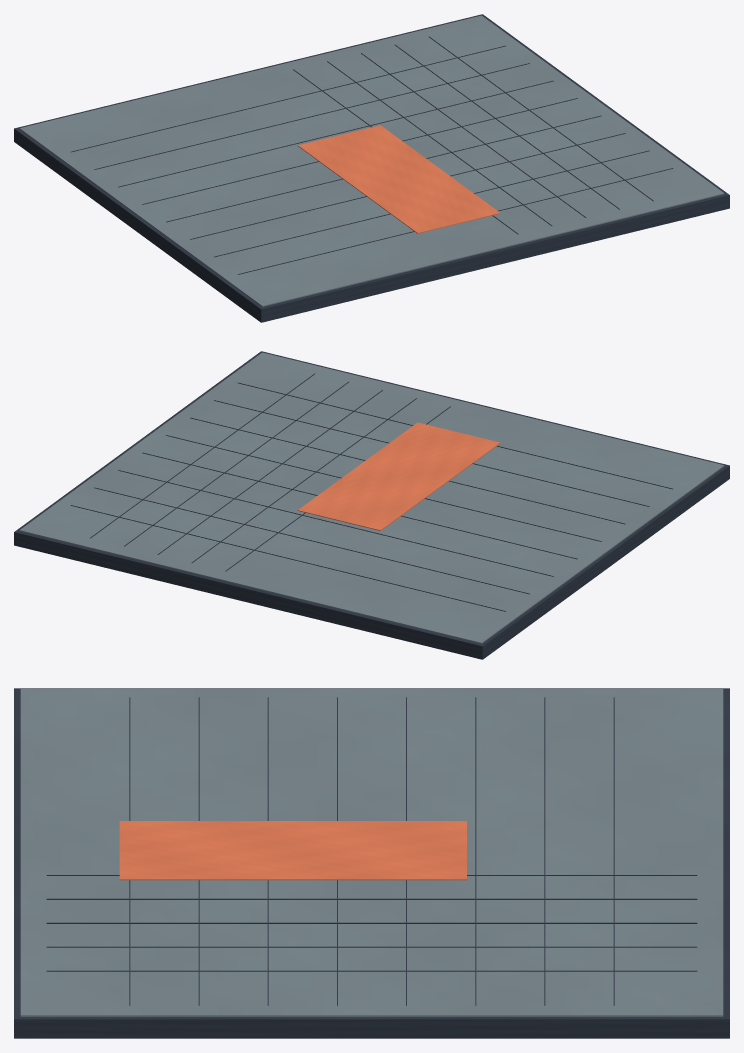
Rendered from atlas100-s025-a07.lod2.glb.
3 views of the same model, one above another, from view 1: azimuth 30°, elevation 25°; view 2: azimuth 150°, elevation 25°; view 3: azimuth 270°, elevation 25° (orthographic). The views are drawn at different scales.
Visible parts, largest first — view 1: atlas100-s025-a07:part-001, atlas100-s025-a07:part-000, atlas100-s025-a07:part-021, atlas100-s025-a07:part-015, atlas100-s025-a07:part-013, atlas100-s025-a07:part-014, atlas100-s025-a07:part-017, atlas100-s025-a07:part-016, atlas100-s025-a07:part-018, atlas100-s025-a07:part-019, atlas100-s025-a07:part-020; view 2: atlas100-s025-a07:part-001, atlas100-s025-a07:part-000, atlas100-s025-a07:part-021, atlas100-s025-a07:part-013, atlas100-s025-a07:part-014, atlas100-s025-a07:part-015, atlas100-s025-a07:part-016, atlas100-s025-a07:part-018, atlas100-s025-a07:part-019, atlas100-s025-a07:part-017, atlas100-s025-a07:part-020; view 3: atlas100-s025-a07:part-001, atlas100-s025-a07:part-000, atlas100-s025-a07:part-021, atlas100-s025-a07:part-009, atlas100-s025-a07:part-011, atlas100-s025-a07:part-012, atlas100-s025-a07:part-010, atlas100-s025-a07:part-013, atlas100-s025-a07:part-014, atlas100-s025-a07:part-015.
Part boxes in pixels (x1=…): atlas100-s025-a07:part-001: x1=19, y1=15, x2=724, y2=306; atlas100-s025-a07:part-000: x1=14, y1=14, x2=729, y2=322; atlas100-s025-a07:part-021: x1=297, y1=125, x2=500, y2=233; atlas100-s025-a07:part-015: x1=118, y1=80, x2=553, y2=187; atlas100-s025-a07:part-013: x1=71, y1=45, x2=505, y2=152; atlas100-s025-a07:part-014: x1=94, y1=63, x2=529, y2=169; atlas100-s025-a07:part-017: x1=166, y1=115, x2=601, y2=222; atlas100-s025-a07:part-016: x1=142, y1=98, x2=577, y2=204; atlas100-s025-a07:part-018: x1=190, y1=133, x2=625, y2=239; atlas100-s025-a07:part-019: x1=214, y1=150, x2=649, y2=257; atlas100-s025-a07:part-020: x1=238, y1=168, x2=673, y2=274; atlas100-s025-a07:part-001: x1=19, y1=352, x2=724, y2=643; atlas100-s025-a07:part-000: x1=14, y1=351, x2=729, y2=659; atlas100-s025-a07:part-021: x1=297, y1=422, x2=500, y2=530; atlas100-s025-a07:part-013: x1=70, y1=505, x2=505, y2=611; atlas100-s025-a07:part-014: x1=94, y1=487, x2=529, y2=594; atlas100-s025-a07:part-015: x1=118, y1=470, x2=553, y2=576; atlas100-s025-a07:part-016: x1=142, y1=452, x2=577, y2=559; atlas100-s025-a07:part-018: x1=190, y1=417, x2=625, y2=524; atlas100-s025-a07:part-019: x1=214, y1=400, x2=649, y2=506; atlas100-s025-a07:part-017: x1=166, y1=435, x2=601, y2=541; atlas100-s025-a07:part-020: x1=238, y1=382, x2=672, y2=489; atlas100-s025-a07:part-001: x1=20, y1=689, x2=723, y2=1016; atlas100-s025-a07:part-000: x1=14, y1=688, x2=729, y2=1038; atlas100-s025-a07:part-021: x1=119, y1=821, x2=466, y2=880; atlas100-s025-a07:part-009: x1=46, y1=898, x2=697, y2=899; atlas100-s025-a07:part-011: x1=46, y1=946, x2=697, y2=947; atlas100-s025-a07:part-012: x1=46, y1=970, x2=697, y2=971; atlas100-s025-a07:part-010: x1=46, y1=922, x2=697, y2=923; atlas100-s025-a07:part-013: x1=613, y1=697, x2=614, y2=1005; atlas100-s025-a07:part-014: x1=544, y1=697, x2=545, y2=1005; atlas100-s025-a07:part-015: x1=475, y1=697, x2=476, y2=1005.
Bounding box in the file's own units: 12.46 × 0.404 × 11.39.
3 materials, 3 textured.
